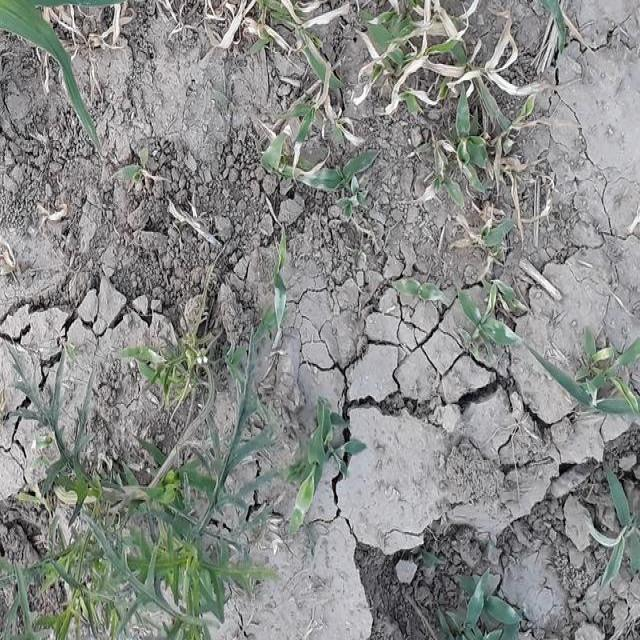weed: (274, 0, 577, 237), (0, 445, 253, 633)
